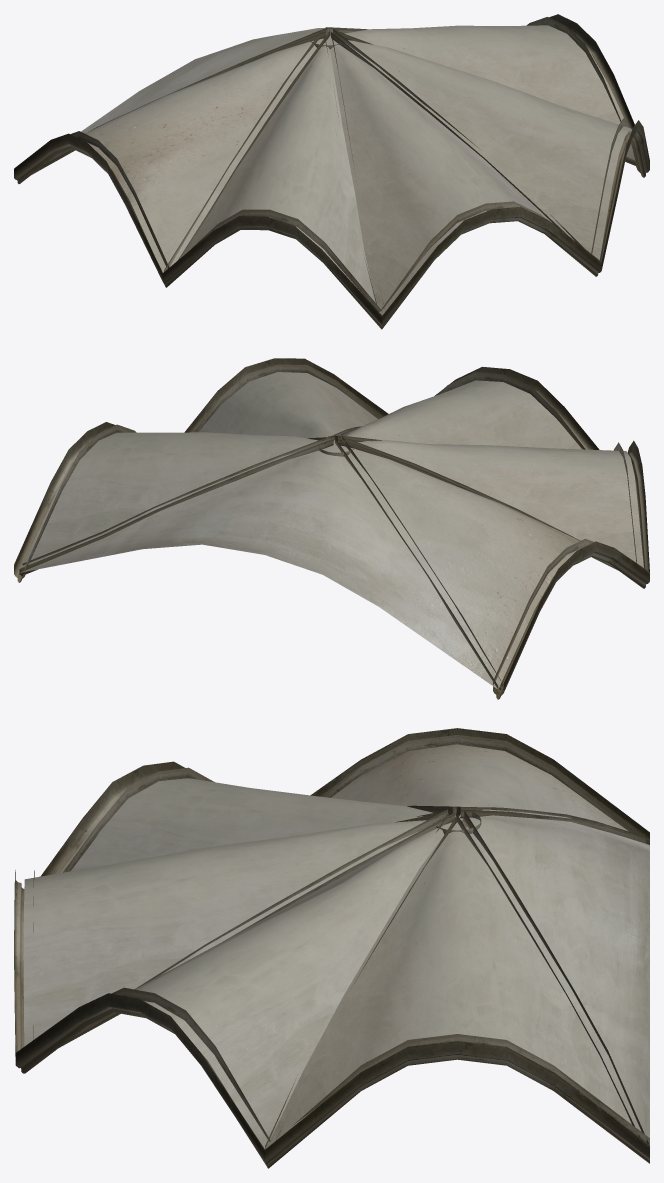
File: sm_Ceiling_01_05.fbx
The picture shows the model from 3 angles, top to bottom: view 1: azimuth 30°, elevation 25°; view 2: azimuth 150°, elevation 25°; view 3: azimuth 270°, elevation 25°; orthographic projection. The views are drawn at different scales.
Visible parts, largest first — view 1: sm_Ceiling_01_05_LOD0; view 2: sm_Ceiling_01_05_LOD0; view 3: sm_Ceiling_01_05_LOD0.
Boxes of the visible parts, x1=… form: sm_Ceiling_01_05_LOD0: x1=14, y1=14, x2=649, y2=329; sm_Ceiling_01_05_LOD0: x1=14, y1=358, x2=649, y2=699; sm_Ceiling_01_05_LOD0: x1=14, y1=728, x2=649, y2=1168.
Size of the model in its own units: 675 by 580 by 205.
